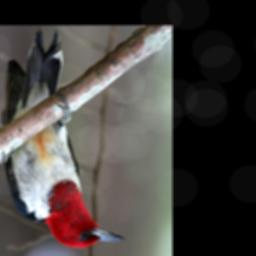Woodpecker: (2, 27, 126, 250)
